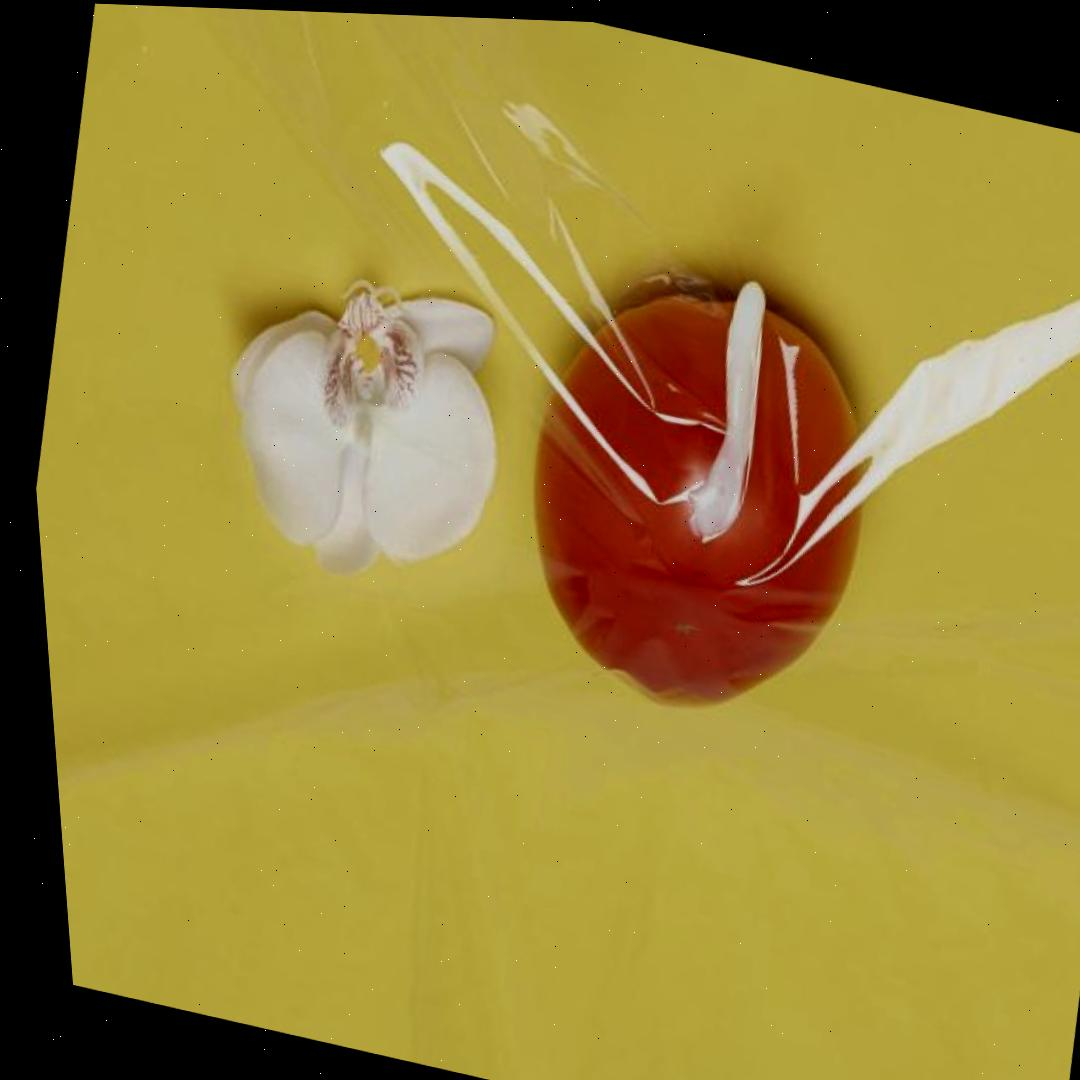matang: (481, 256, 915, 748)
